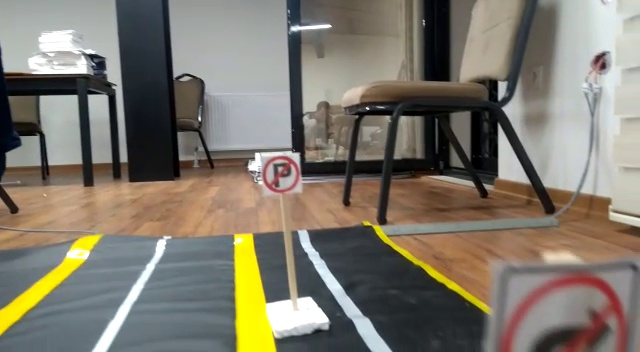park_yapilmaz: (258, 155, 304, 195)
saga_donulmez: (492, 269, 640, 352)
